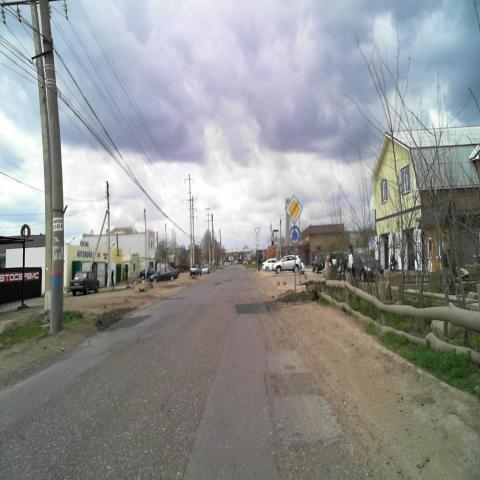4_3: (289, 226, 301, 247)
